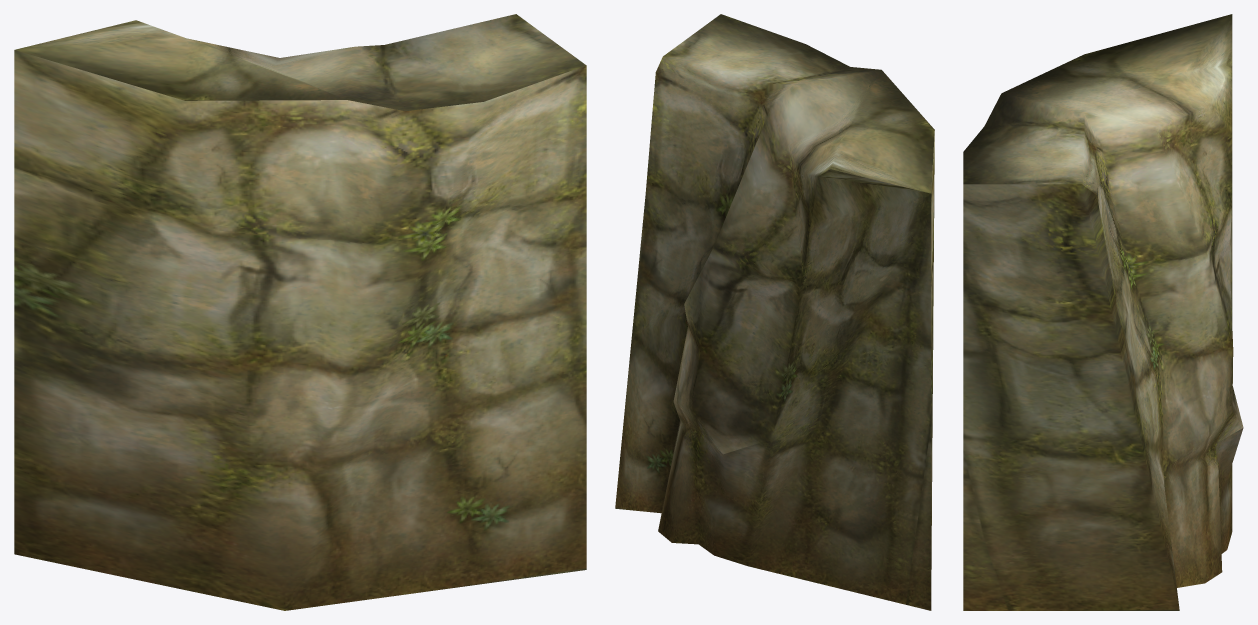
The model's file is a_SWCwallA01_a02.glb.
The picture shows the model from 3 angles, left to right: view 1: azimuth 30°, elevation 25°; view 2: azimuth 150°, elevation 25°; view 3: azimuth 270°, elevation 25°; orthographic projection. The views are drawn at different scales.
Parts seen in each view (by area): view 1: a_SWCwallA01_a02; view 2: a_SWCwallA01_a02; view 3: a_SWCwallA01_a02.
Boxes of the visible parts, x1=… form: a_SWCwallA01_a02: x1=14, y1=14, x2=586, y2=610; a_SWCwallA01_a02: x1=615, y1=14, x2=934, y2=610; a_SWCwallA01_a02: x1=963, y1=14, x2=1243, y2=610.
Size of the model in its own units: 3 by 3.54 by 2.08.
1 material, 1 textured.
